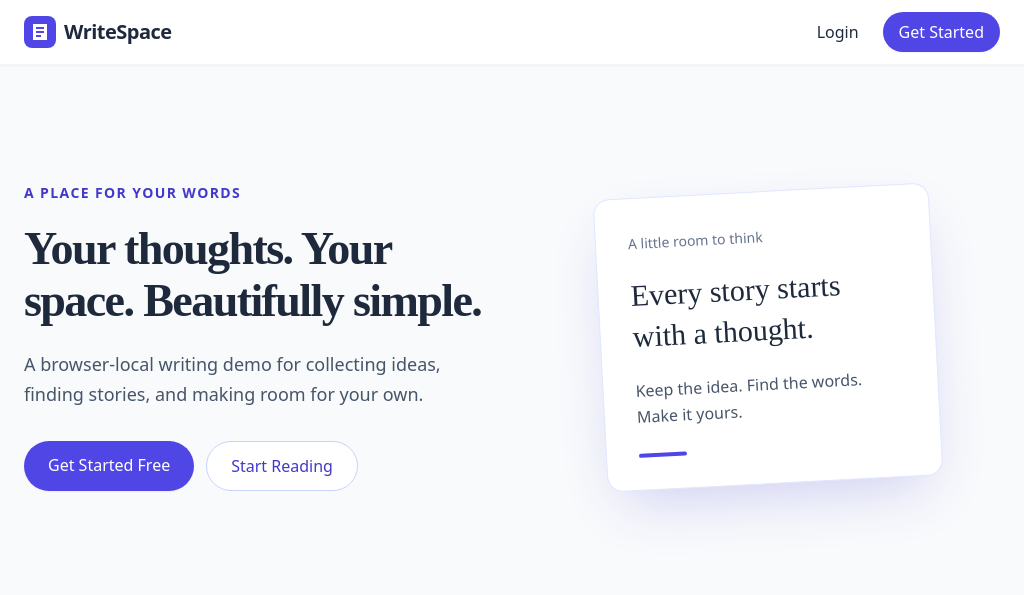
Test: follows actual signup to registration and guest reading and preview links to login
Click the link "Get Started Free". click: (109, 466)
box: [24,441,194,491]
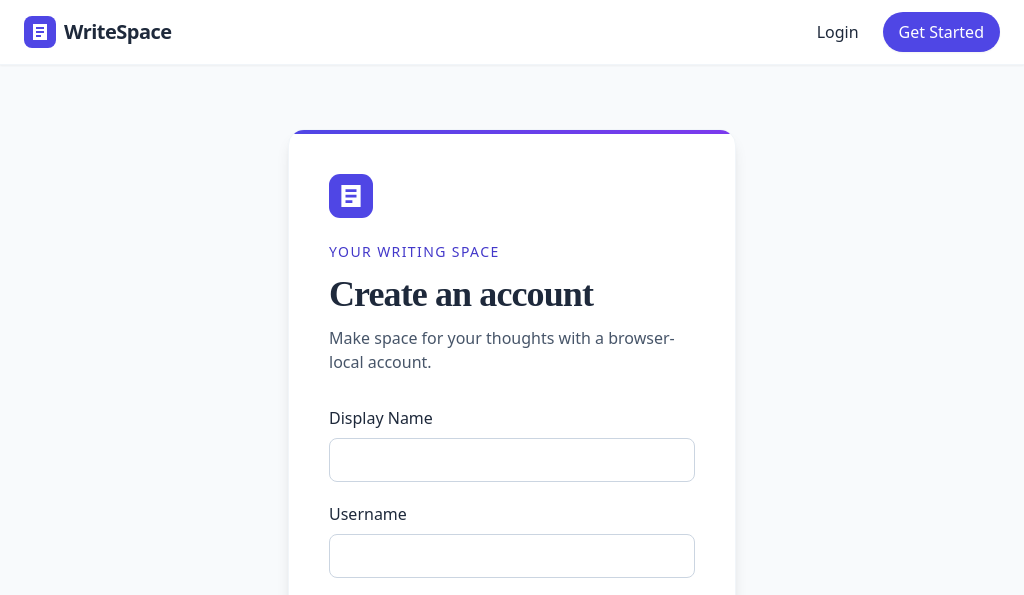
Expected: the heading "Create an account" is shown, [329,274,593,314]
Click the link "WriteSpace". click: (98, 32)
box: [24,16,172,48]
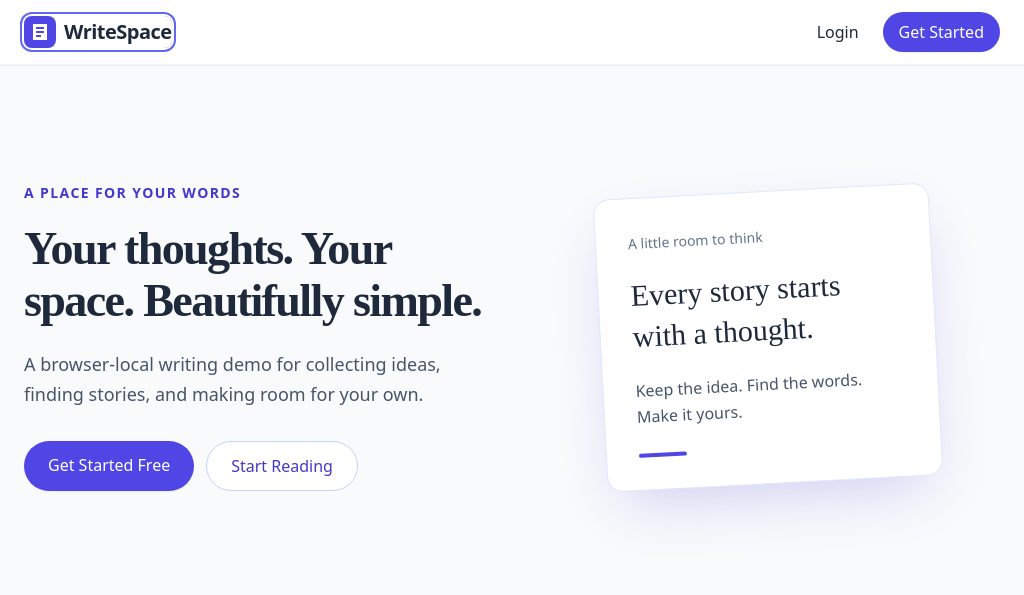
Expected: the heading "Your thoughts. Your space. Beautifully simple." is shown, [24,223,488,326]
Click the link "Start Reading". click: (282, 466)
box: [206,441,358,491]
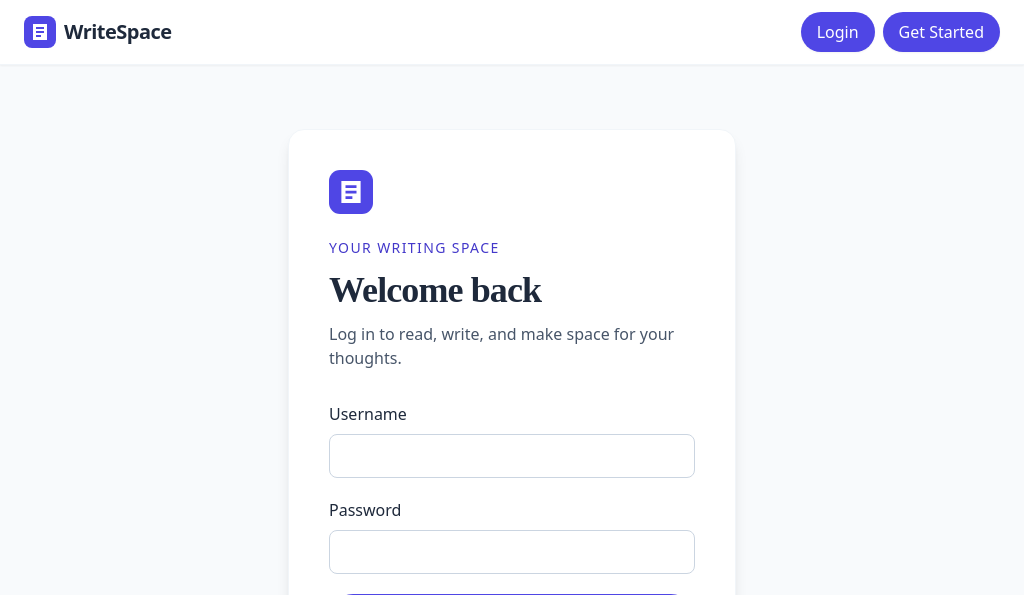
Expected: the heading "Welcome back" is shown, [329,270,541,310]
Click the link "WriteSpace". click: (98, 32)
box: [24,16,172,48]
(page scrolled)
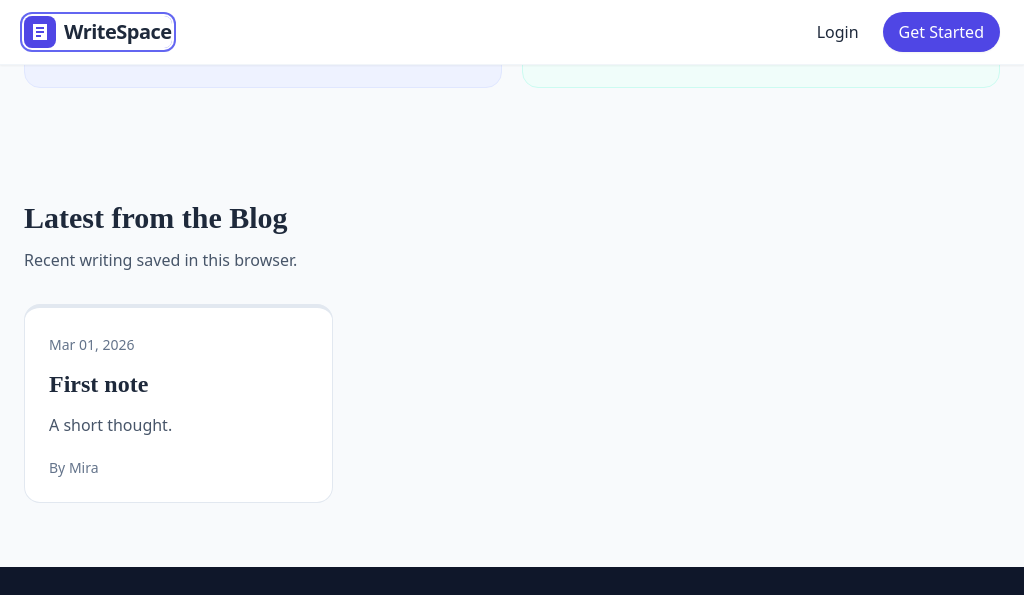
Click the link "First note". click: (99, 384)
box: [49,371,148,397]
(page scrolled)
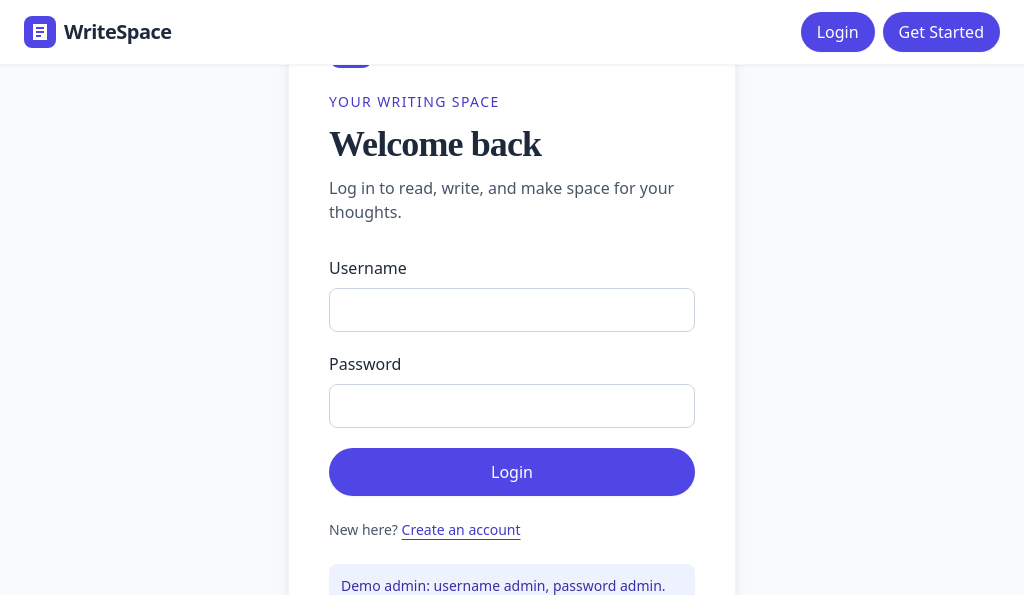
Expected: the heading "Welcome back" is shown, [329,124,541,164]
Click the link "WriteSpace". click: (98, 32)
box: [24,16,172,48]
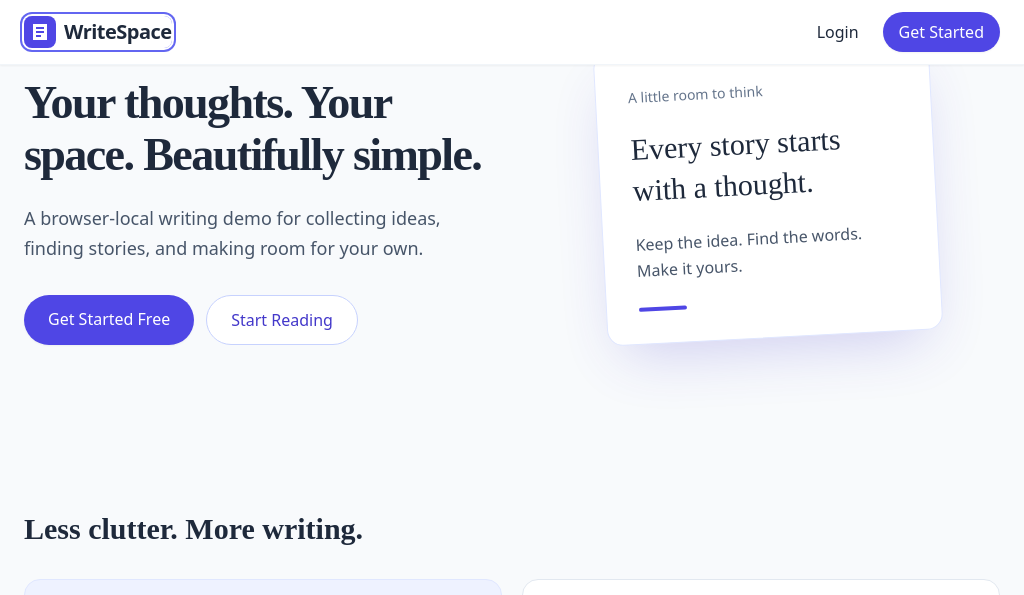
Expected: the heading "Your thoughts. Your space. Beautifully simple." is shown, [24,77,488,180]
